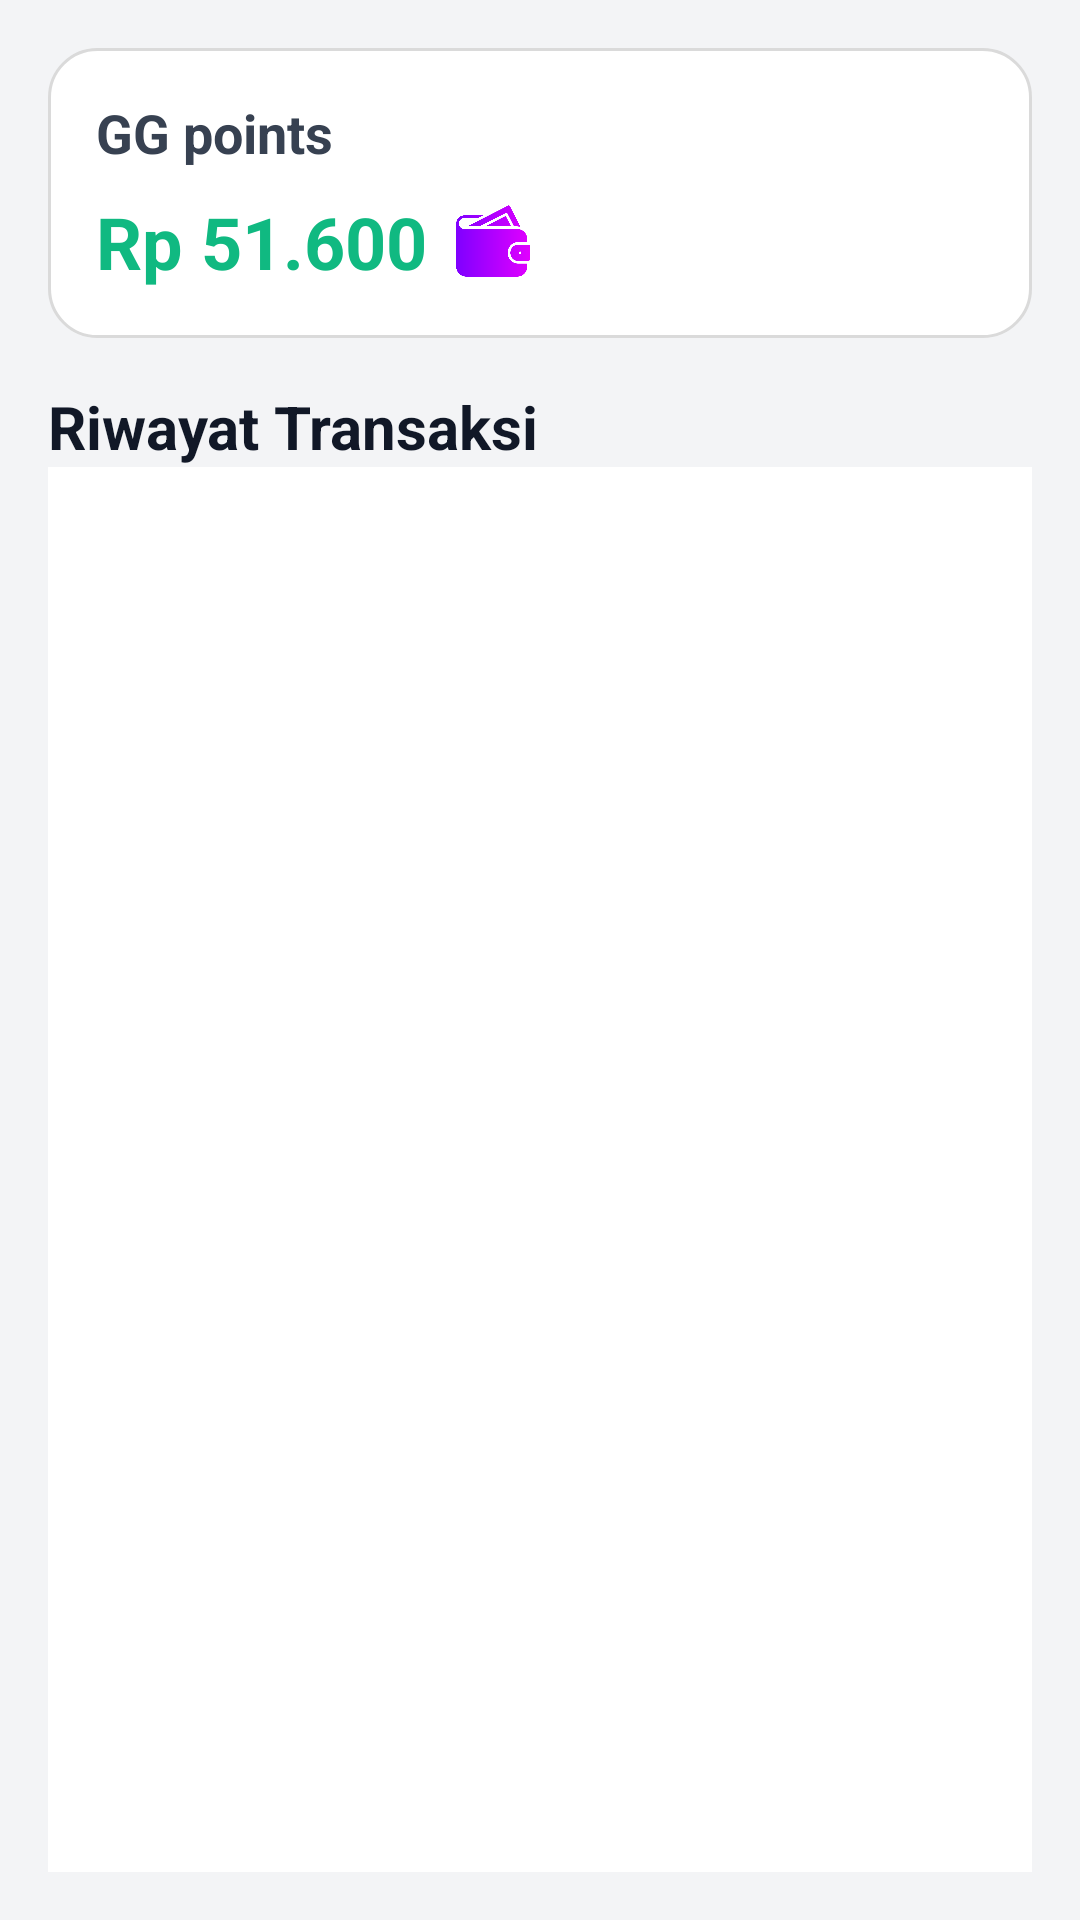

Screen size 1080x1920. Icon name, then its box in pixels as Rect(x1, y1, x2, y2):
Ikon Saldo: Rect(456, 205, 530, 277)
